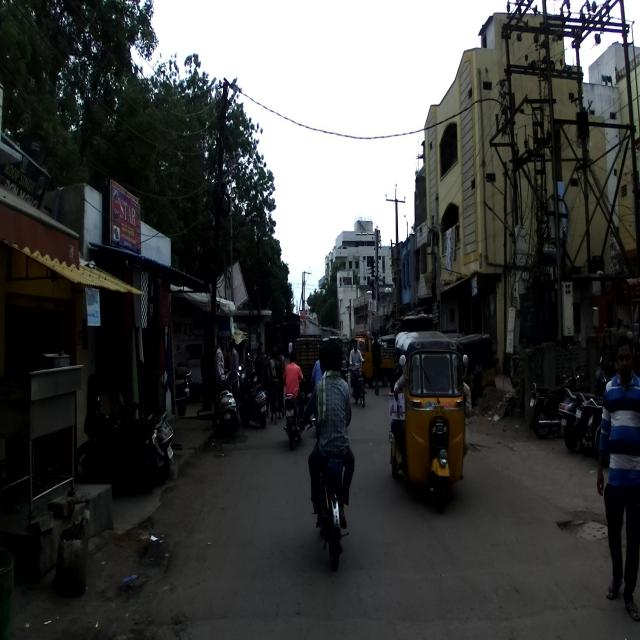autorickshaw: (387, 330, 470, 516)
scooter: (111, 394, 175, 477), (558, 384, 607, 448), (234, 363, 268, 430)
